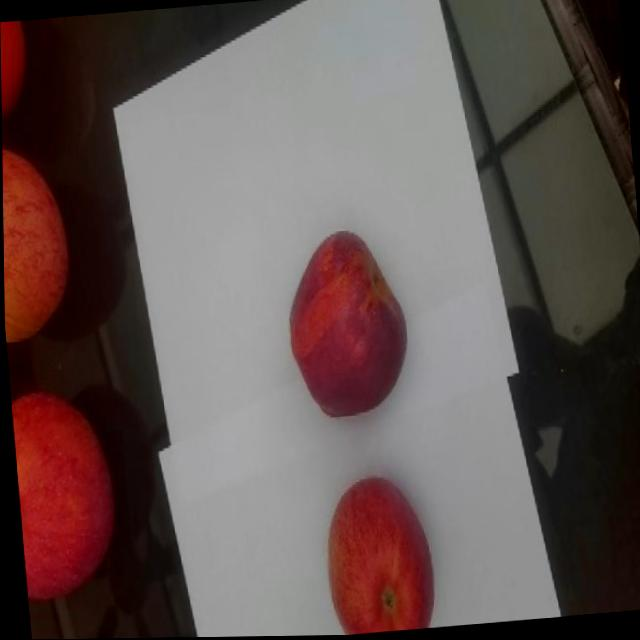Apple: (278, 224, 416, 426), (9, 384, 125, 601), (316, 470, 442, 636), (2, 139, 79, 351)
Orange: (0, 20, 34, 121)
